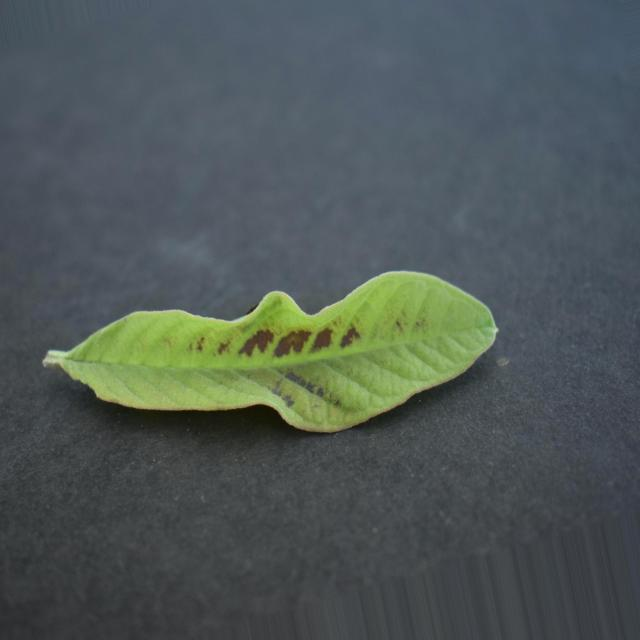Canker: (44, 272, 496, 433)
